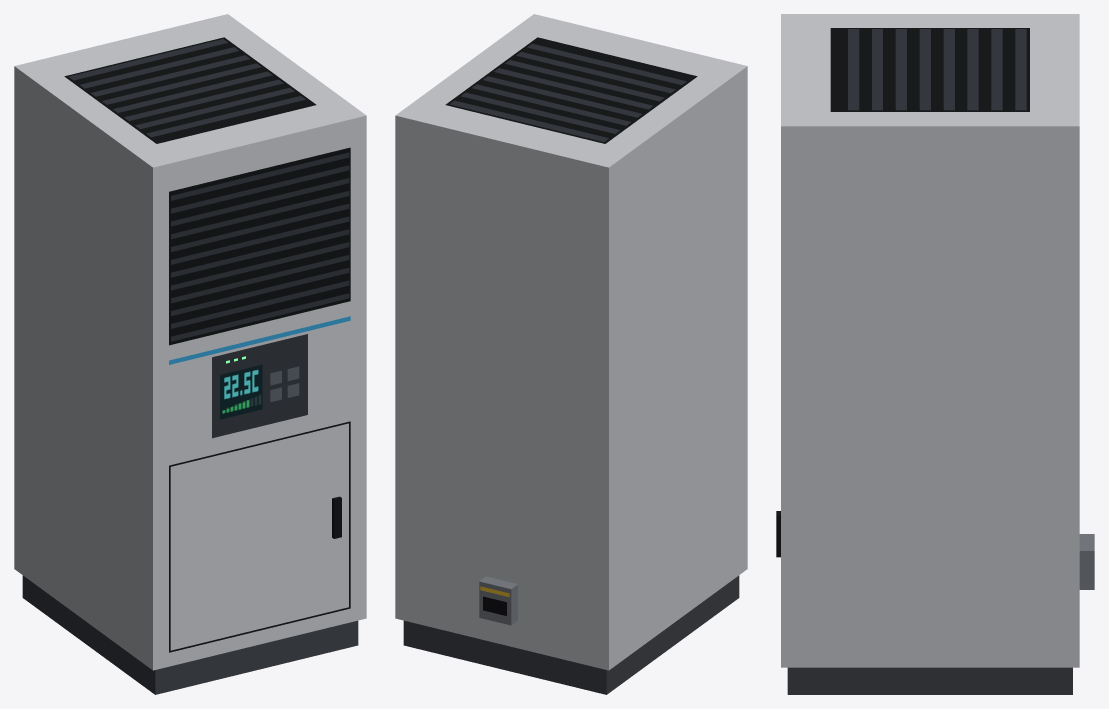
The model's file is Cooling_Floor.glb.
The picture shows the model from 3 angles, left to right: view 1: azimuth 30°, elevation 25°; view 2: azimuth 150°, elevation 25°; view 3: azimuth 270°, elevation 25°; orthographic projection. The views are drawn at different scales.
Visible parts, largest first — view 1: Cooling_Floor; view 2: Cooling_Floor; view 3: Cooling_Floor.
Part boxes in pixels (x1,y1,x2,y2): Cooling_Floor: [14, 14, 366, 694]; Cooling_Floor: [395, 14, 747, 694]; Cooling_Floor: [776, 14, 1094, 694].
Bounding box in the file's own units: 0.8 × 1.9 × 0.9595.
Materials: 2 (1 with a texture image).
